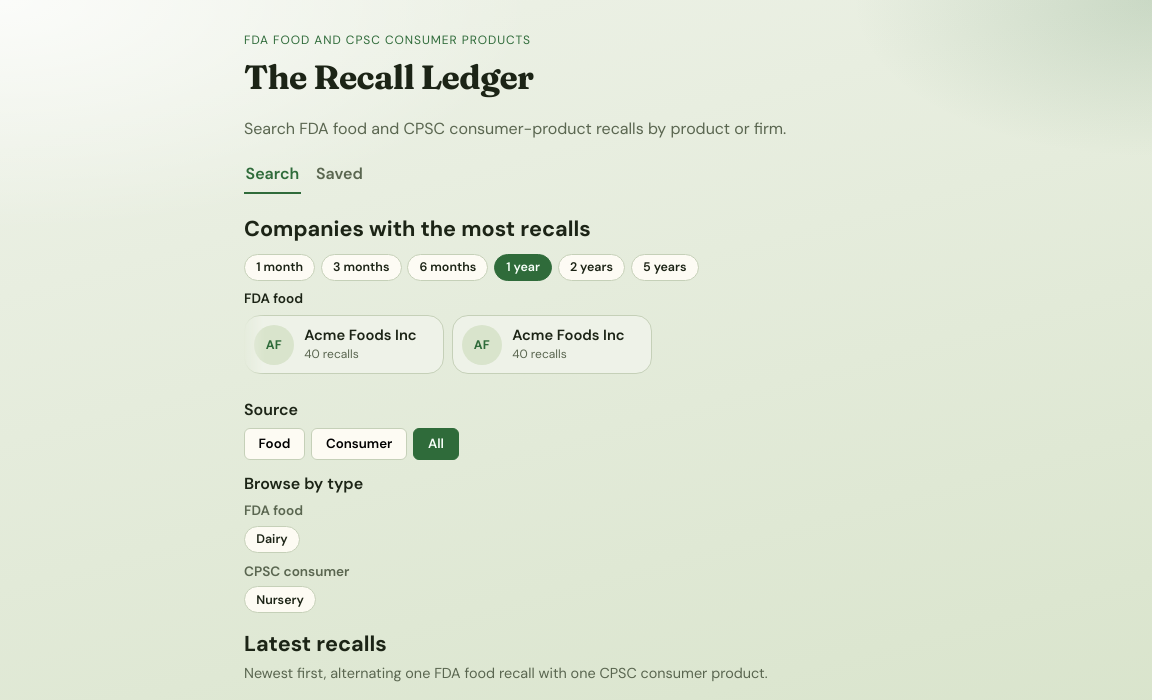
Test case: App › hides Food type chips on Consumer and drops an inapplicable category
Step 1. Click the button "Dairy" → (272, 539), box [244,526,300,553]
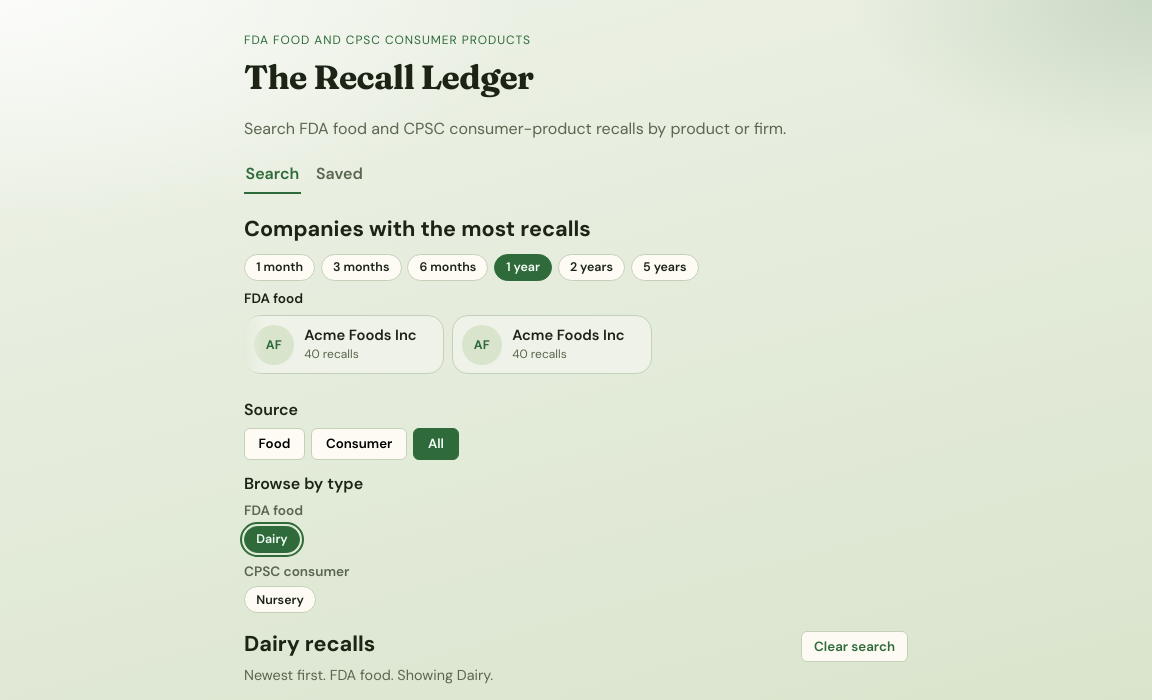
Check: the heading "Dairy recalls" is shown, box [244,629,375,660]
Step 2. Click the button "Consumer" → (359, 444), box [311,428,407,460]
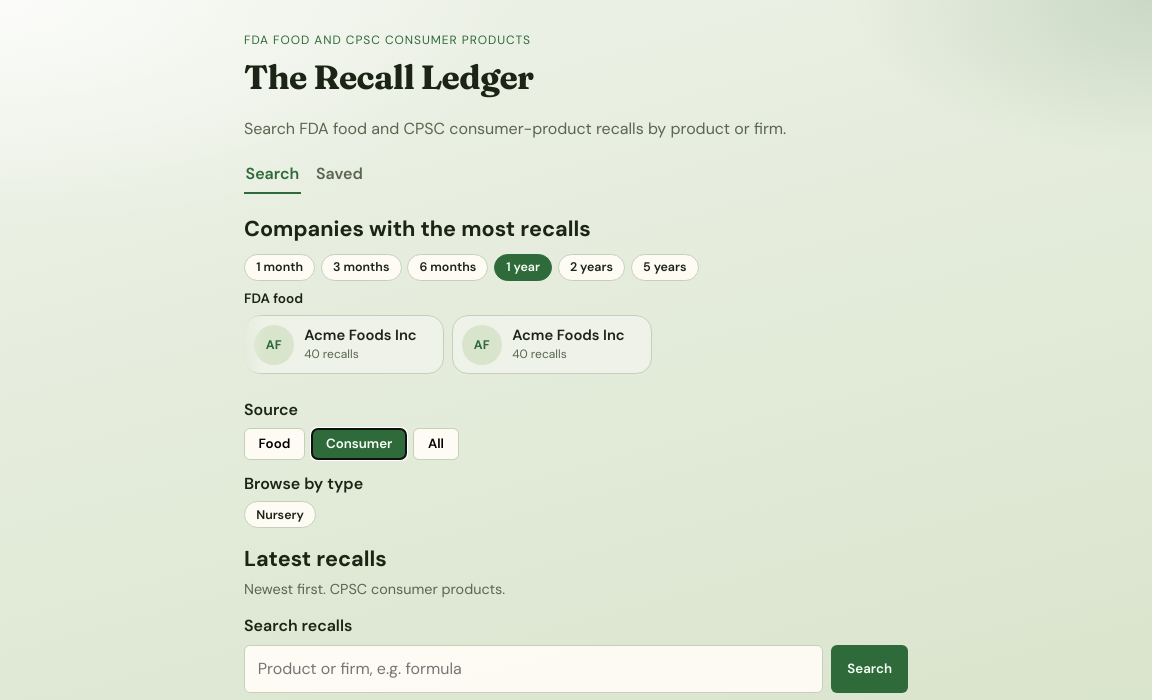
Check: the button "Dairy" is not shown
Check: the heading "Latest recalls" is shown, box [244,544,387,576]
